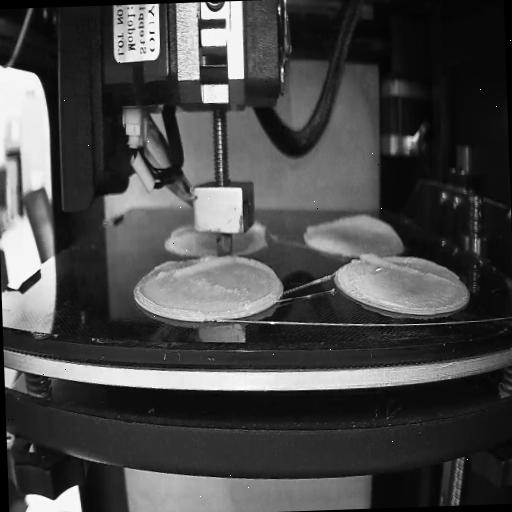over_extrusion: (358, 248, 450, 287), (304, 210, 400, 246), (152, 254, 278, 280), (247, 288, 273, 306), (252, 224, 272, 242), (171, 224, 194, 238)
